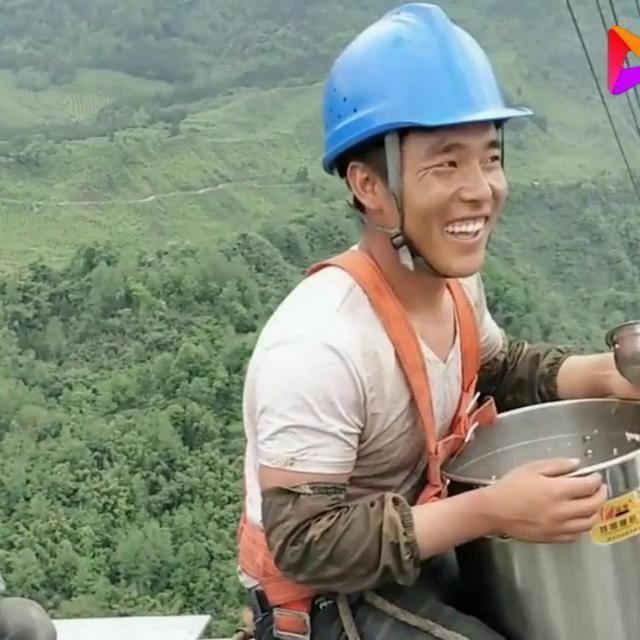Arnes_seguridad: (224, 240, 501, 593)
